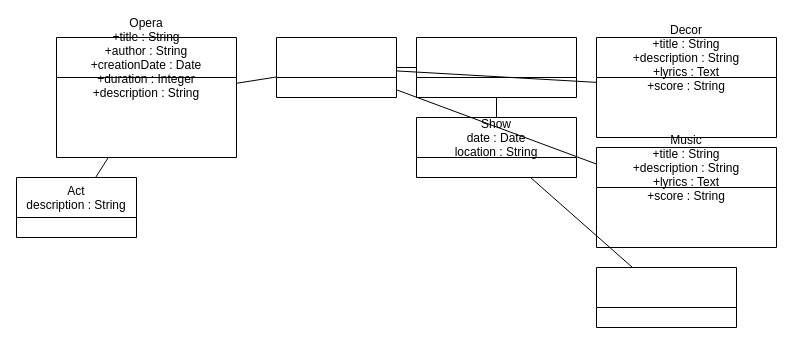
This 793x344 diagram has some shape labels left out. The shapes that lost their labels are listed below. From the top down, each one's centre as x and y in pixels, then its label:
At point 336,67: "Scene".
At point 496,67: "Character name : String isMain : Boolean".
At point 666,297: "Singer name : String range : String".
